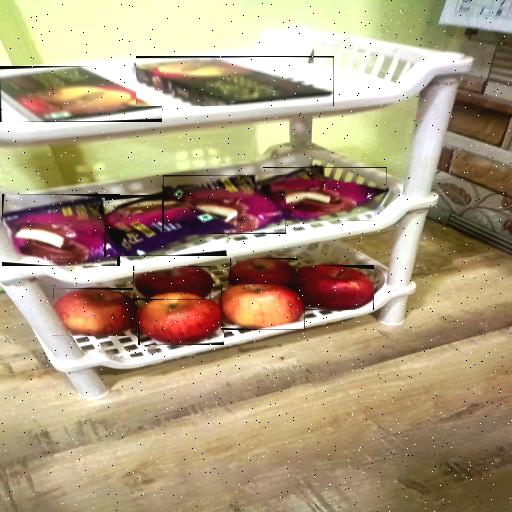Apple: (138, 293, 224, 345), (53, 288, 137, 336), (221, 284, 305, 330), (290, 265, 374, 310), (133, 266, 211, 300), (230, 258, 298, 289)
Choco Fills: (136, 56, 334, 106), (0, 66, 162, 122)
Choco Pie: (2, 194, 120, 266), (106, 195, 228, 256), (163, 175, 286, 234), (263, 167, 387, 221)
